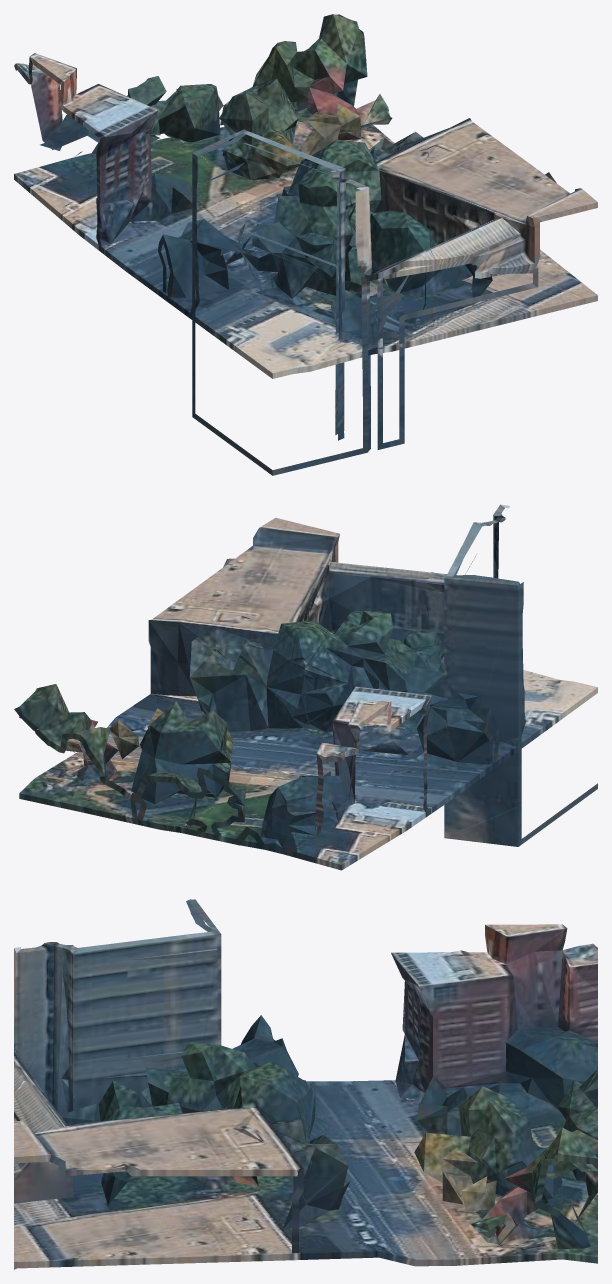
Rendered from chunk_-1_-8.glb.
The picture shows the model from 3 angles, top to bottom: view 1: azimuth 30°, elevation 25°; view 2: azimuth 150°, elevation 25°; view 3: azimuth 270°, elevation 25°; orthographic projection. The views are drawn at different scales.
Visible parts, largest first — view 1: hero-chunk; view 2: hero-chunk; view 3: hero-chunk.
Boxes of the visible parts, x1,y1,x2,y2 form: hero-chunk: [14, 14, 597, 475]; hero-chunk: [14, 504, 597, 870]; hero-chunk: [14, 899, 597, 1269].
Bounding box in the file's own units: 56.34 × 42.97 × 76.32.
1 material, 1 textured.
